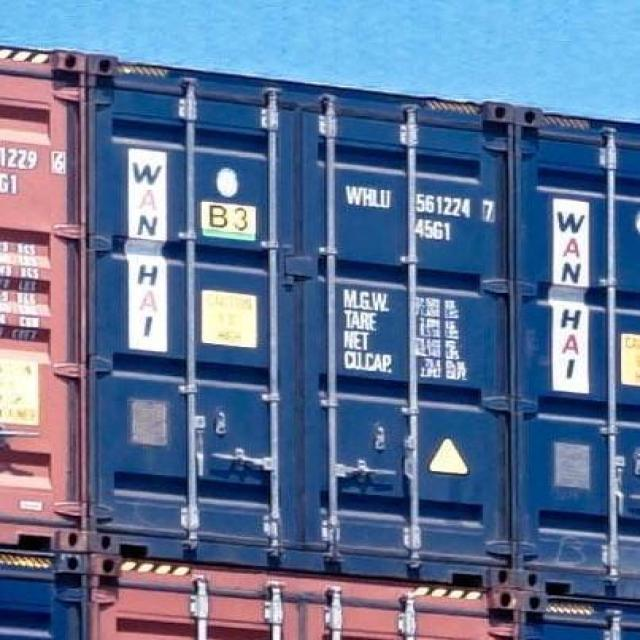ISO: (415, 219, 455, 242), (0, 171, 25, 196)
container_number: (350, 190, 498, 218), (2, 132, 68, 171)
